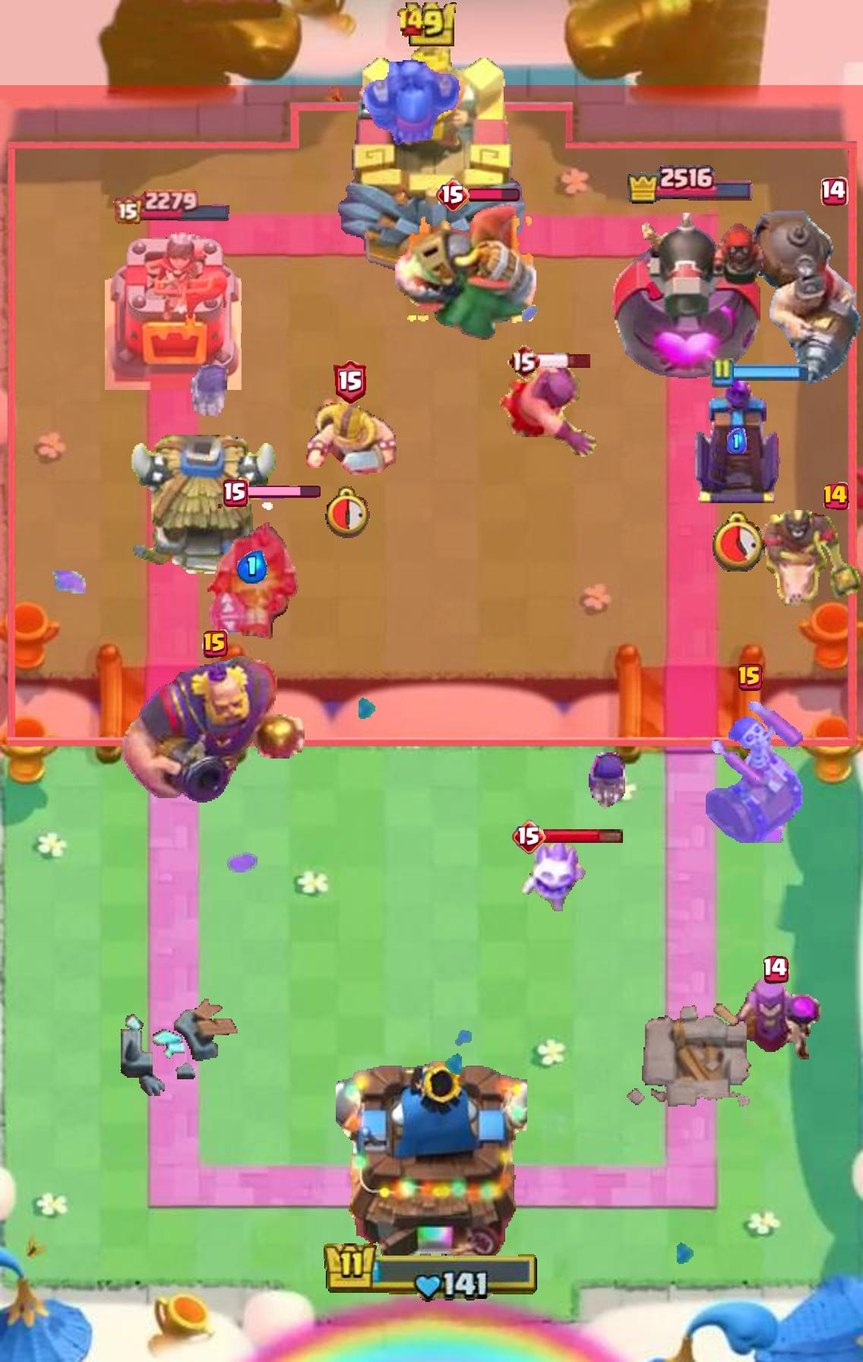bar: (543, 828, 624, 845), (536, 352, 593, 370), (245, 486, 320, 499), (468, 187, 520, 202)
bar-level: (333, 360, 366, 404), (436, 178, 471, 213), (512, 819, 547, 854), (507, 343, 540, 379), (397, 8, 425, 38), (222, 477, 249, 508), (820, 177, 848, 206), (823, 482, 849, 511), (202, 629, 228, 658), (763, 955, 789, 984), (738, 662, 763, 691)
